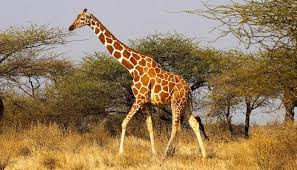Jirafa: (61, 6, 130, 55)
